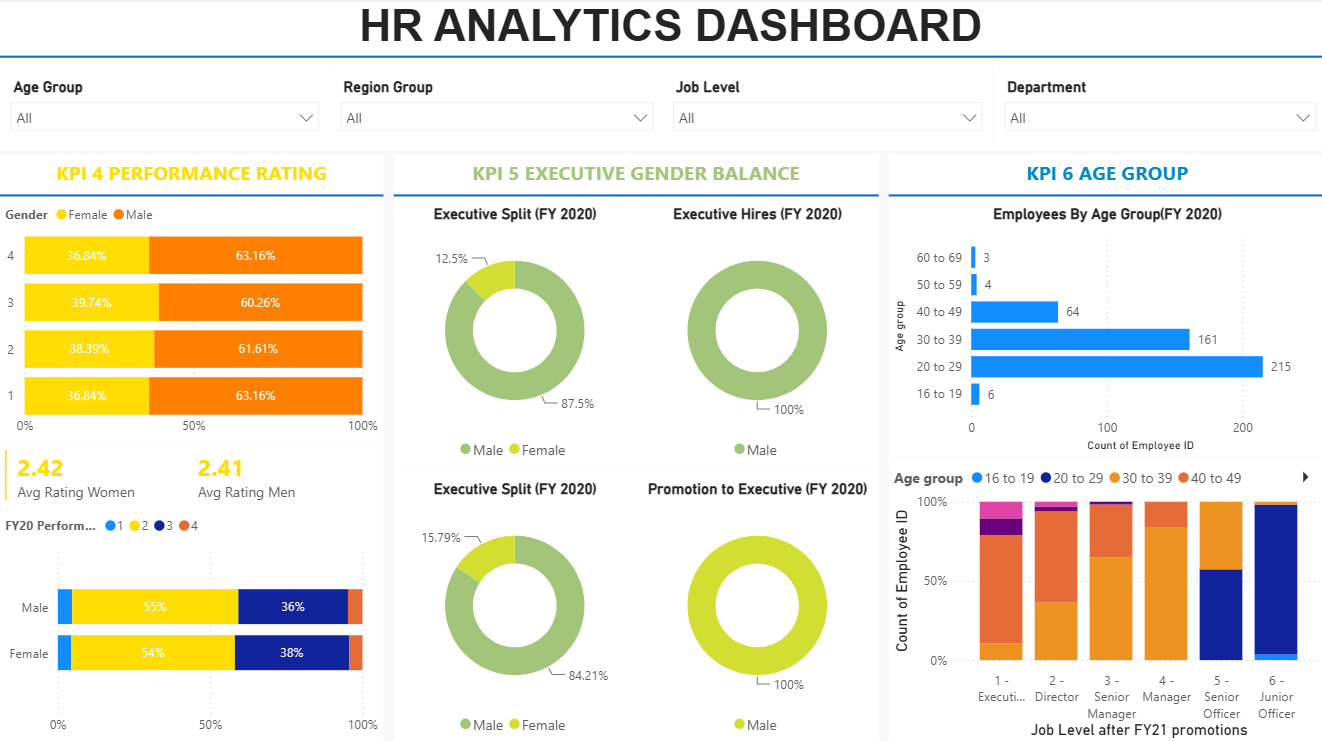

The page's visual inventory and layout, read from the dashboard file:
{"tool":"powerbi","page":{"name":"Dashboard 2","canvas":[1280,720],"ordinal":1},"visuals":[{"type":"textbox","box":[0,0,1280,57],"z":0},{"type":"slicer","fields":{"Values":["Pharma.Last Department in FY20"]},"box":[959,57,321,90],"z":1000},{"type":"slicer","fields":{"Values":["Pharma.Job Level after FY20 promotions"]},"box":[640,57,319,90],"z":2000},{"type":"slicer","fields":{"Values":["Pharma.Age group"]},"box":[0,57,318,90],"z":3000},{"type":"slicer","fields":{"Values":["Pharma.Broad region group: nationality 1"]},"box":[318,57,322,90],"z":4000},{"type":"shape","box":[0,45,1280,24],"z":5000},{"type":"hundredPercentStackedBarChart","fields":{"Category":["Pharma.FY20 Performance Rating"],"Y":["CountNonNull(Pharma.Employee ID)"],"Series":["Pharma.Gender"]},"box":[0,190,370,242],"z":6000},{"type":"hundredPercentStackedBarChart","fields":{"Category":["Pharma.Gender"],"Y":["CountNonNull(Pharma.Employee ID)"],"Series":["Pharma.FY20 Performance Rating"]},"box":[0,490,370,230],"z":7000},{"type":"group","id":"g1","title":"Group 1","box":[380,190,468,530],"z":8000},{"type":"donutChart","title":"Executive Split (FY 2020)","fields":{"Category":["Pharma.Gender"],"Y":["CountNonNull(Pharma.Employee ID)"]},"box":[380,190,234,265],"z":8000,"group":"g1"},{"type":"clusteredBarChart","title":"Employees By Age Group(FY 2020)","fields":{"Category":["Pharma.Age group"],"Y":["CountNonNull(Pharma.Employee ID)"]},"box":[858,190,422,253],"z":9000},{"type":"donutChart","title":"Executive Split (FY 2020)","fields":{"Category":["Pharma.Gender"],"Y":["CountNonNull(Pharma.Employee ID)"]},"box":[380,455,234,265],"z":9000,"group":"g1"},{"type":"donutChart","title":"Executive Hires (FY 2020)","fields":{"Category":["Pharma.Gender"],"Y":["CountNonNull(Pharma.Employee ID)"]},"box":[614,190,234,265],"z":10000,"group":"g1"},{"type":"hundredPercentStackedColumnChart","fields":{"Series":["Pharma.Age group"],"Category":["Pharma.Job Level after FY21 promotions"],"Y":["CountNonNull(Pharma.Employee ID)"]},"box":[858,443,422,277],"z":10000},{"type":"textbox","box":[0,151,370,39],"z":11000},{"type":"donutChart","title":"Promotion to Executive (FY 2020)","fields":{"Category":["Pharma.Gender"],"Y":["CountNonNull(Pharma.Employee ID)"]},"box":[614,455,234,265],"z":11000,"group":"g1"},{"type":"textbox","box":[380,151,468,39],"z":12000},{"type":"textbox","box":[858,151,422,39],"z":13000},{"type":"shape","box":[0,178,370,24],"z":14000},{"type":"shape","box":[380,178,468,24],"z":15000},{"type":"shape","box":[858,178,422,24],"z":16000},{"type":"multiRowCard","fields":{"Values":["Pharma.# Avg Female Rating","Pharma.# Avg Men Rating"]},"box":[0,432,370,58],"z":17000}]}

Visuals, with their boxes in screenshot pixels (x1, y1, x2, y2), scaled from the page's 1280x720 canvas onto the 1322x741 screenshot:
textbox: bbox=(0, 0, 1321, 59)
slicer - Pharma.Last Department in FY20: bbox=(990, 59, 1321, 151)
slicer - Pharma.Job Level after FY20 promotions: bbox=(661, 59, 990, 151)
slicer - Pharma.Age group: bbox=(0, 59, 328, 151)
slicer - Pharma.Broad region group: nationality 1: bbox=(328, 59, 661, 151)
shape: bbox=(0, 46, 1321, 71)
hundredPercentStackedBarChart - Pharma.FY20 Performance Rating x CountNonNull(Pharma.Employee ID): bbox=(0, 196, 382, 445)
hundredPercentStackedBarChart - Pharma.Gender x CountNonNull(Pharma.Employee ID): bbox=(0, 504, 382, 740)
"Group 1" group: bbox=(392, 196, 876, 740)
"Executive Split (FY 2020)" donutChart: bbox=(392, 196, 634, 468)
"Employees By Age Group(FY 2020)" clusteredBarChart: bbox=(886, 196, 1321, 456)
"Executive Split (FY 2020)" donutChart: bbox=(392, 468, 634, 740)
"Executive Hires (FY 2020)" donutChart: bbox=(634, 196, 876, 468)
hundredPercentStackedColumnChart - Pharma.Age group x Pharma.Job Level after FY21 promotions: bbox=(886, 456, 1321, 740)
textbox: bbox=(0, 155, 382, 196)
"Promotion to Executive (FY 2020)" donutChart: bbox=(634, 468, 876, 740)
textbox: bbox=(392, 155, 876, 196)
textbox: bbox=(886, 155, 1321, 196)
shape: bbox=(0, 183, 382, 208)
shape: bbox=(392, 183, 876, 208)
shape: bbox=(886, 183, 1321, 208)
multiRowCard - Pharma.# Avg Female Rating x Pharma.# Avg Men Rating: bbox=(0, 445, 382, 504)
